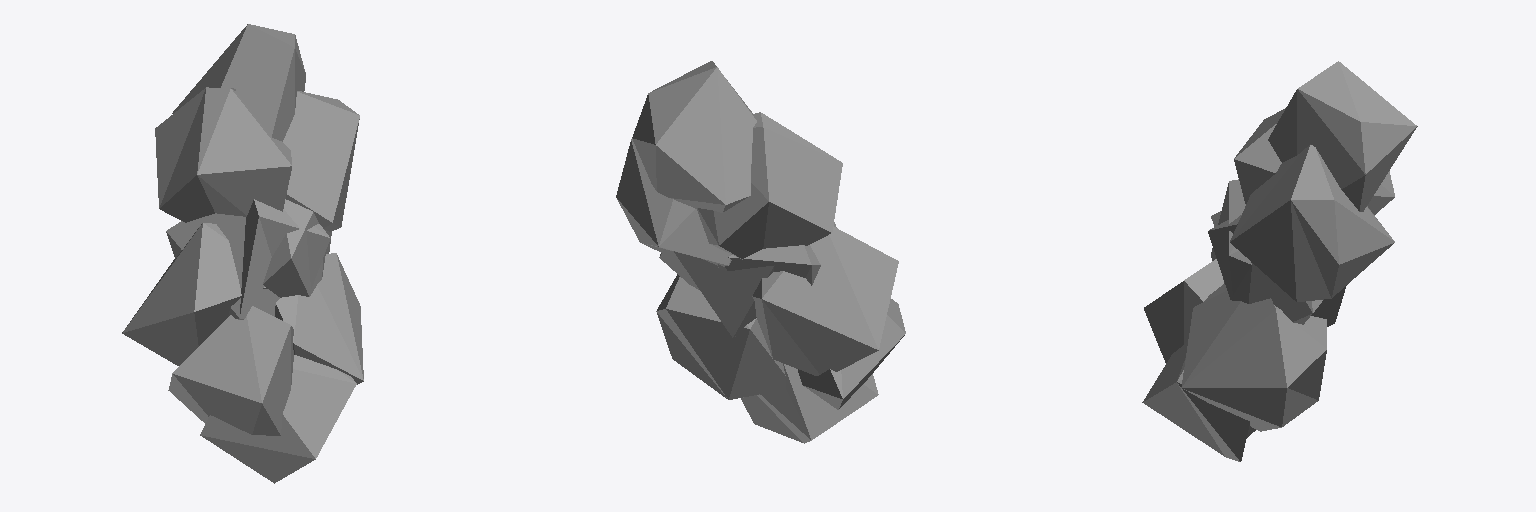
3 renders of one model, left to right at view 1: azimuth 30°, elevation 25°; view 2: azimuth 150°, elevation 25°; view 3: azimuth 270°, elevation 25°, orthographic.
Visible parts, largest first — view 1: pSphere11; view 2: pSphere11; view 3: pSphere11.
Part boxes in pixels (left/top/right/bottom): pSphere11: left=122, top=24, right=363, bottom=483; pSphere11: left=616, top=61, right=905, bottom=443; pSphere11: left=1142, top=61, right=1417, bottom=461.
Bounding box in the file's own units: 0.811 × 1.3 × 0.7889.
1 materials, 1 textured.